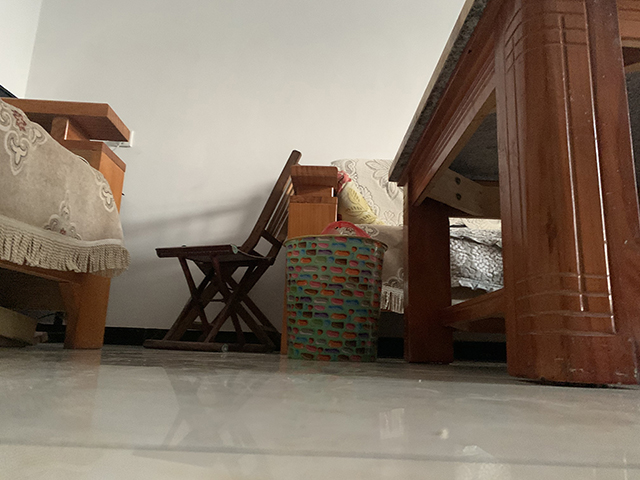sofa: (1, 83, 134, 349), (280, 157, 405, 356)
stool: (142, 149, 303, 354)
table: (388, 1, 640, 388)
trashcan: (283, 233, 388, 364)
